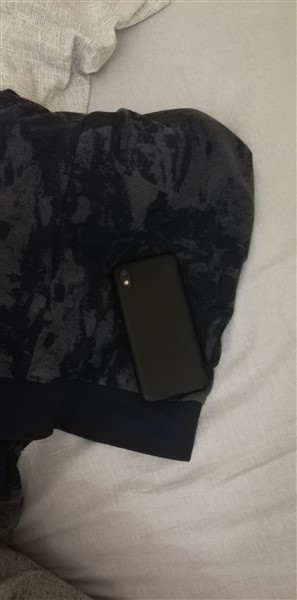telefon: (111, 250, 214, 408)
